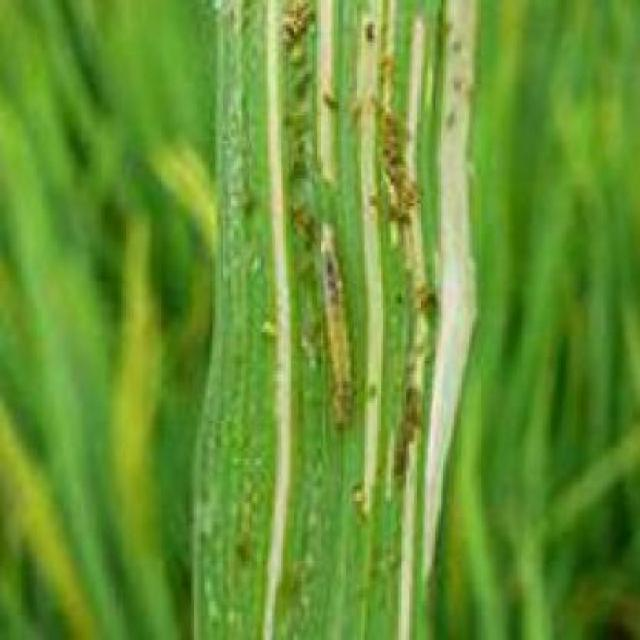leaf-folder: (299, 216, 366, 449)
